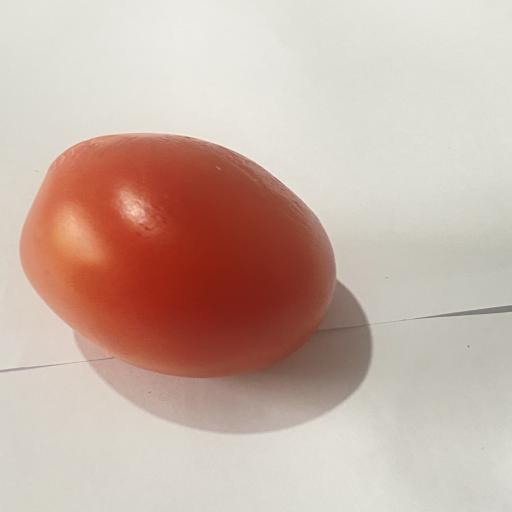overipe: (20, 133, 335, 377)
